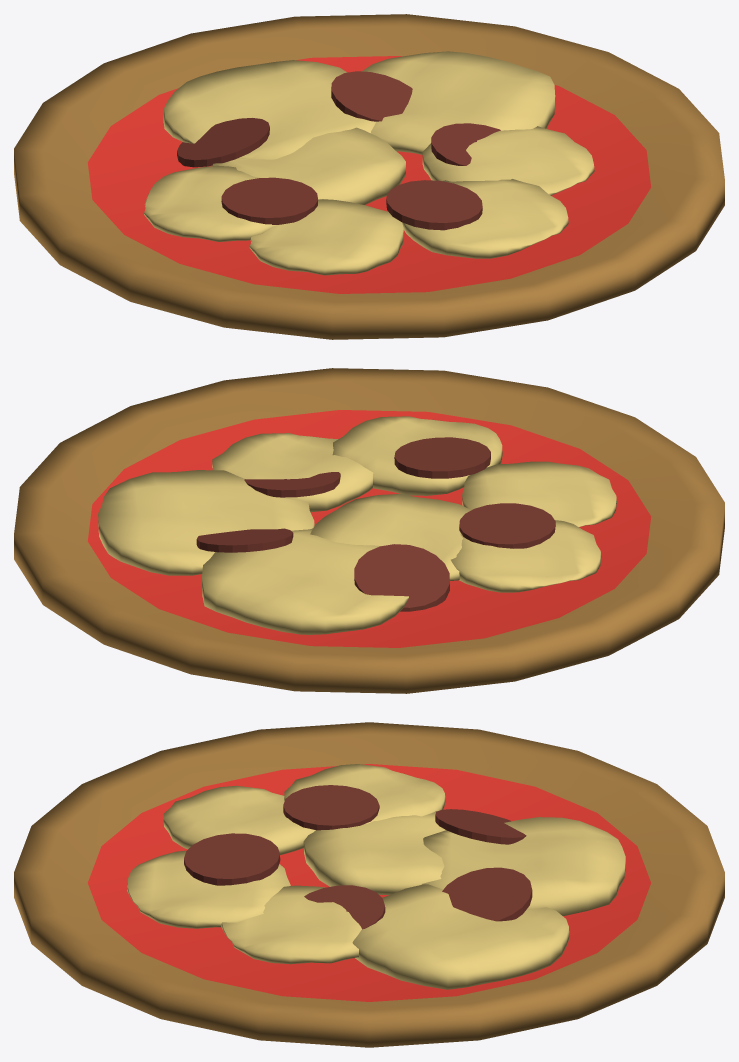
File: CookedPizza(Tomato Cheese and Pepperoni).glb
The picture shows the model from 3 angles, top to bottom: view 1: azimuth 30°, elevation 25°; view 2: azimuth 150°, elevation 25°; view 3: azimuth 270°, elevation 25°; orthographic projection.
Parts seen in each view (by area): view 1: Cylinder.046; view 2: Cylinder.046; view 3: Cylinder.046.
Boxes of the visible parts, x1,y1,x2,y2 form: Cylinder.046: (14, 14, 724, 339); Cylinder.046: (14, 368, 724, 693); Cylinder.046: (14, 722, 724, 1047).
Size of the model in its own units: 0.8833 by 0.0613 by 0.8833.
